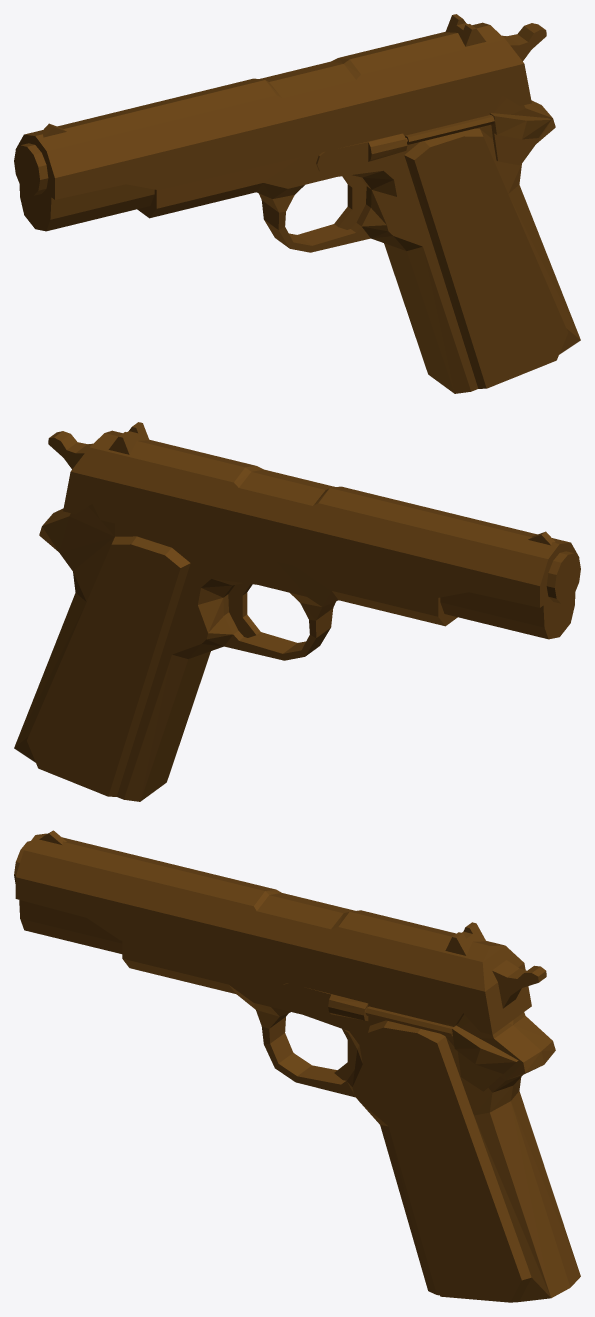
The model's file is SM_PRP_Pistols_Colt_01_A.obj.
3 renders of one model, top to bottom at view 1: azimuth 30°, elevation 25°; view 2: azimuth 150°, elevation 25°; view 3: azimuth 330°, elevation 25°, orthographic.
Visible parts, largest first — view 1: SM_PRP_Pistols_Colt_01_A; view 2: SM_PRP_Pistols_Colt_01_A; view 3: SM_PRP_Pistols_Colt_01_A.
Boxes of the visible parts, left/top/right/bottom form: SM_PRP_Pistols_Colt_01_A: left=14, top=14, right=580, bottom=393; SM_PRP_Pistols_Colt_01_A: left=14, top=422, right=580, bottom=801; SM_PRP_Pistols_Colt_01_A: left=14, top=830, right=580, bottom=1302.
Size of the model in its own units: 21.2 by 13.3 by 3.15.
